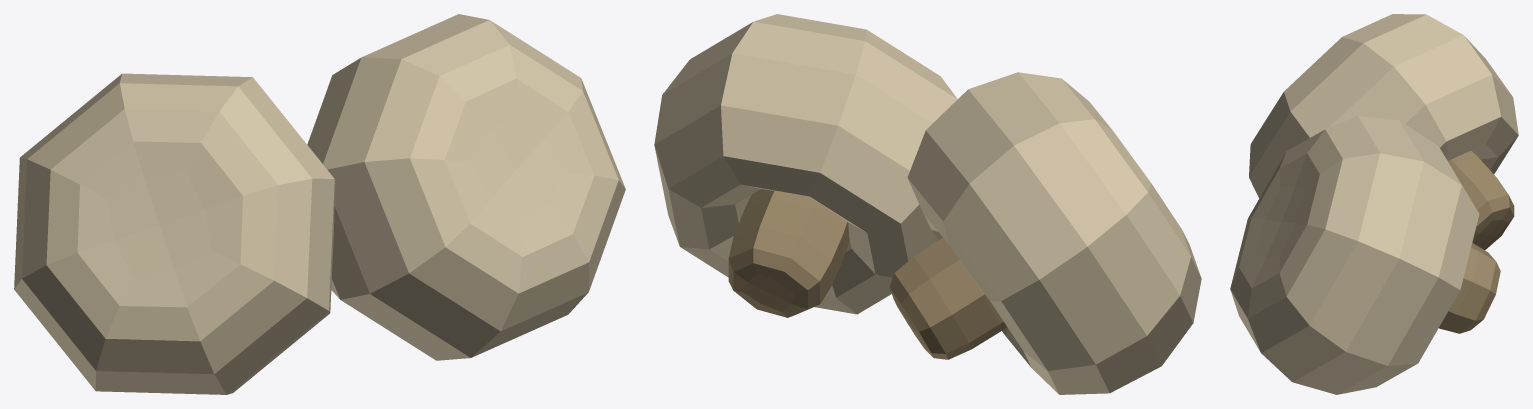
Rendered from Mushroom.fbx.
3 renders of one model, left to right at view 1: azimuth 30°, elevation 25°; view 2: azimuth 150°, elevation 25°; view 3: azimuth 270°, elevation 25°, orthographic. The views are drawn at different scales.
Visible parts, largest first — view 1: 立方体.005; view 2: 立方体.005; view 3: 立方体.005.
Part boxes in pixels (x1,y1,x2,y2): 立方体.005: (14,14,625,394); 立方体.005: (654,14,1201,394); 立方体.005: (1230,14,1518,394).
Bounding box in the file's own units: 159 × 80.62 × 86.27.
